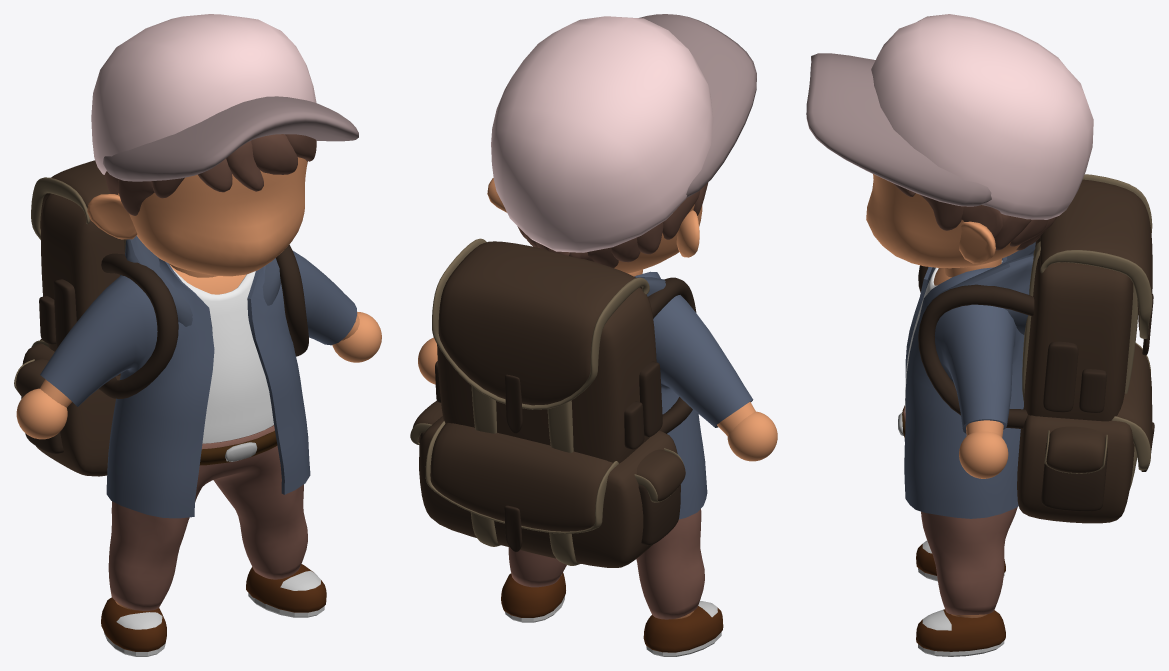
Rendered from player_v3.6.fbx.
3 views of the same model, side by side, from view 1: azimuth 30°, elevation 25°; view 2: azimuth 150°, elevation 25°; view 3: azimuth 270°, elevation 25° (orthographic). The views are drawn at different scales.
Visible parts, largest first — view 1: Jacket.001, Hat_Top, Pants, Head, Hat_Front, Shirt, Cube.001, Cube.016, Shoes, Hair, Cube.002, Hand (+9 smaller); view 2: Hat_Top, Cube.008, Cube.009, Cube.001, Jacket.001, Cube.002, Hat_Front, Pants, Shoes, Cube.011, Hair, Hand (+14 smaller); view 3: Hat_Top, Jacket.001, Cube.001, Hat_Front, Pants, Cube.008, Cube.002, Head, Cube.016, Shoes, Hair, Cube.011 (+11 smaller).
Boxes of the visible parts, x1,y1,x2,y2 form: Jacket.001: (40, 251, 357, 518); Hat_Top: (91, 14, 316, 174); Pants: (108, 425, 307, 610); Head: (118, 157, 307, 276); Hat_Front: (103, 96, 358, 181); Shirt: (171, 267, 273, 443); Cube.001: (41, 193, 124, 375); Cube.016: (99, 244, 308, 398); Shoes: (101, 564, 326, 656); Hair: (104, 134, 316, 215); Cube.002: (22, 343, 120, 476); Hand: (16, 311, 381, 439); Hat_Top: (491, 16, 713, 252); Cube.008: (438, 241, 642, 405); Cube.009: (430, 423, 612, 531); Cube.001: (437, 287, 656, 463); Jacket.001: (634, 271, 753, 519); Cube.002: (419, 416, 680, 567); Hat_Front: (639, 14, 756, 197); Pants: (508, 509, 704, 619); Shoes: (501, 572, 723, 656); Cube.011: (432, 238, 649, 409); Hair: (517, 182, 708, 267); Hand: (418, 337, 777, 461); Hat_Top: (871, 14, 1093, 219); Jacket.001: (904, 257, 1024, 518); Cube.001: (1024, 238, 1133, 421); Hat_Front: (806, 53, 991, 206); Pants: (903, 405, 1017, 614); Cube.008: (1040, 179, 1152, 330); Cube.002: (1017, 407, 1134, 523); Head: (866, 174, 1020, 268); Cube.016: (918, 265, 1034, 429); Shoes: (916, 540, 1005, 656); Hair: (893, 183, 1057, 250); Cube.011: (1040, 174, 1152, 338).
Size of the model in its own units: 180 by 288 by 156.
